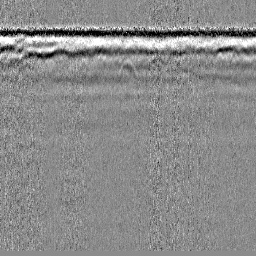cavity: (116, 56, 139, 81)
